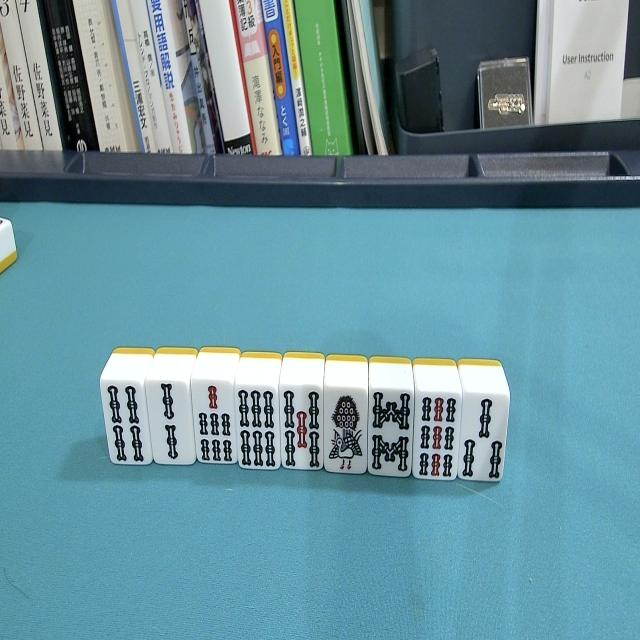1_sou: (320, 349, 371, 484)
2_sou: (146, 342, 200, 478)
3_sou: (455, 353, 510, 494)
4_sou: (100, 344, 152, 468)
5_sou: (278, 348, 328, 478)
6_sou: (233, 348, 283, 483)
7_sou: (190, 344, 242, 473)
8_sou: (364, 351, 414, 487)
9_sou: (410, 352, 460, 490)
